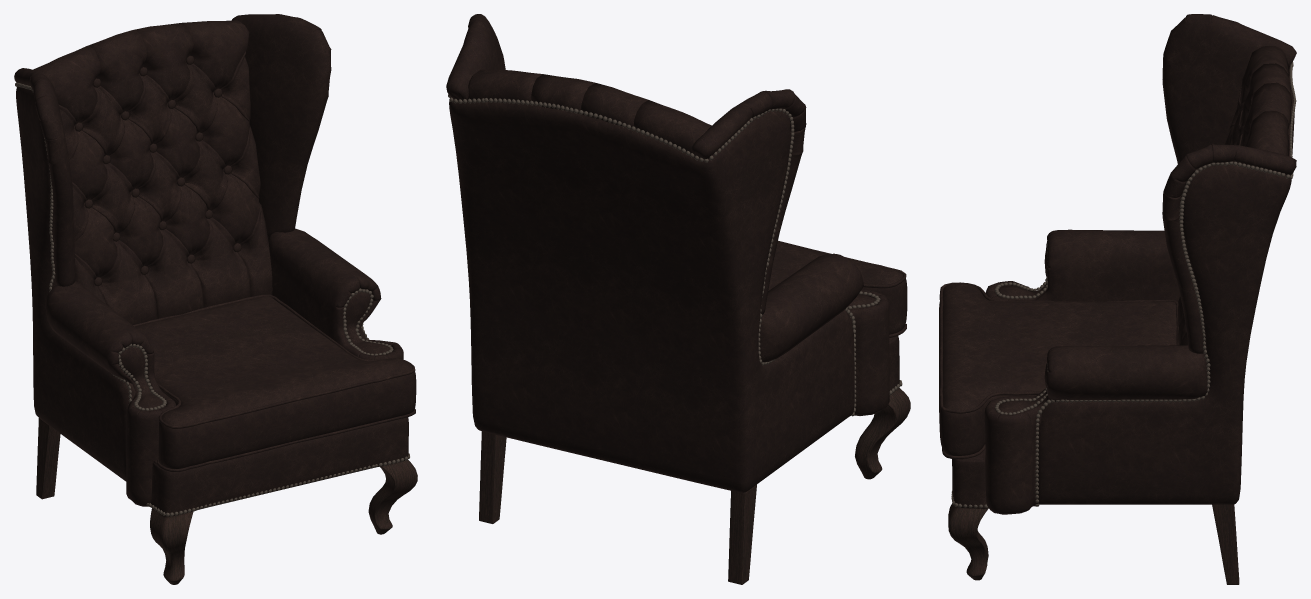
The model's file is Dominik_Kreslo.glb.
The picture shows the model from 3 angles, left to right: view 1: azimuth 30°, elevation 25°; view 2: azimuth 150°, elevation 25°; view 3: azimuth 270°, elevation 25°; orthographic projection. The views are drawn at different scales.
Visible parts, largest first — view 1: Dominik_kreslo_kapiton; view 2: Dominik_kreslo_kapiton; view 3: Dominik_kreslo_kapiton.
Part boxes in pixels (x1=…): Dominik_kreslo_kapiton: x1=14, y1=14, x2=417, y2=584; Dominik_kreslo_kapiton: x1=446, y1=14, x2=910, y2=584; Dominik_kreslo_kapiton: x1=939, y1=14, x2=1296, y2=584.
Size of the model in its own units: 0.8136 by 1.15 by 0.832.
Materials: 3 (2 with a texture image).
